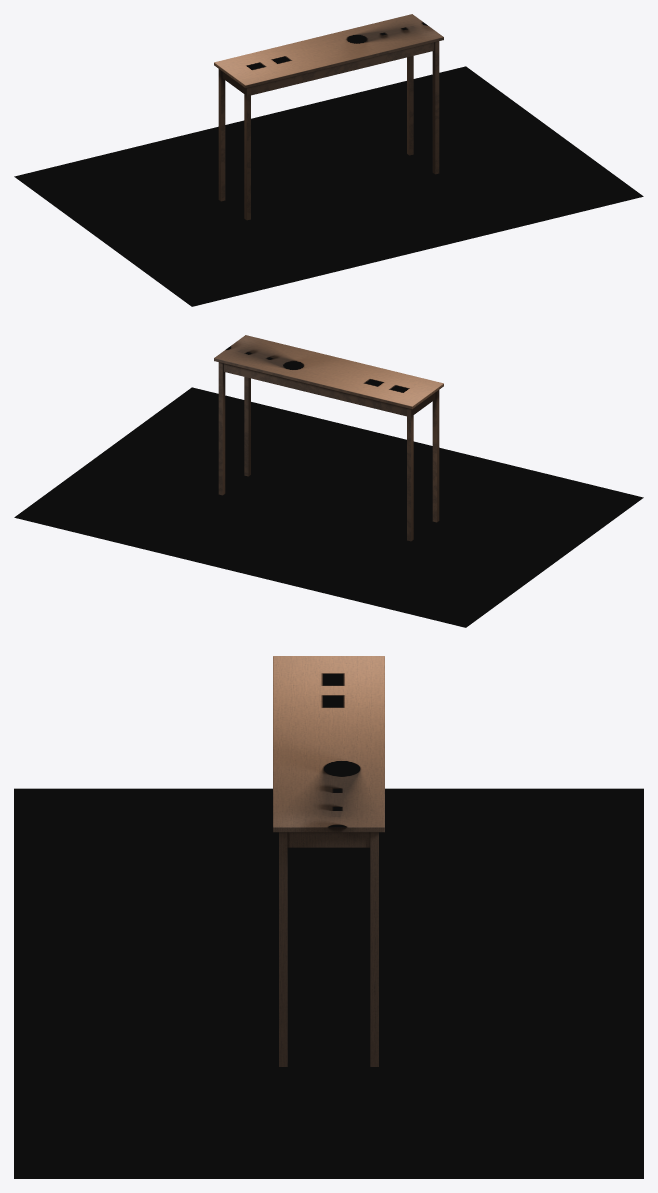
File: 810_like.glb
The picture shows the model from 3 angles, top to bottom: view 1: azimuth 30°, elevation 25°; view 2: azimuth 150°, elevation 25°; view 3: azimuth 270°, elevation 25°; orthographic projection. The views are drawn at different scales.
Visible parts, largest first — view 1: Shadow, Table; view 2: Shadow, Table; view 3: Shadow, Table.
Boxes of the visible parts, x1,y1,x2,y2 form: Shadow: (14, 66, 643, 306); Table: (214, 14, 443, 220); Shadow: (14, 387, 643, 627); Table: (214, 335, 443, 541); Shadow: (14, 788, 643, 1178); Table: (273, 656, 384, 1066).
Bounding box in the file's own units: 10.7 × 3.1 × 7.3.
Materials: 2 (2 with a texture image).
